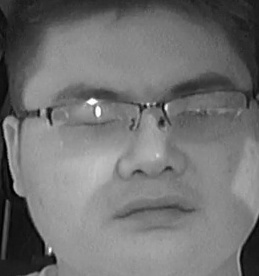glass: (159, 90, 251, 141), (49, 100, 141, 149)
mouth: (111, 196, 192, 227)
